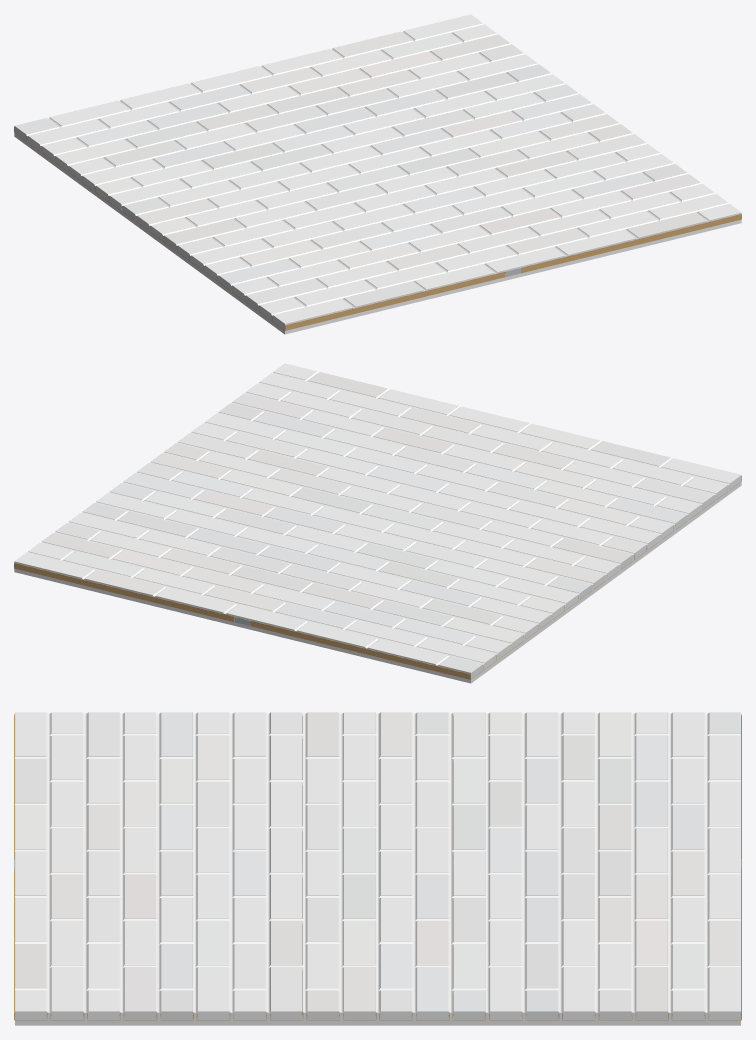
File: board_2.glb
3 renders of one model, top to bottom at view 1: azimuth 30°, elevation 25°; view 2: azimuth 150°, elevation 25°; view 3: azimuth 270°, elevation 25°, orthographic. The views are drawn at different scales.
Visible parts, largest first — view 1: B01, MORTAR, B03, backing, CLIP_R700; view 2: B01, MORTAR, B03, backing, CLIP_R700; view 3: B01, MORTAR, B03, backing, CLIP_R700.
Part boxes in pixels (x1=…): B01: x1=28, y1=14, x2=727, y2=329; MORTAR: x1=26, y1=23, x2=728, y2=321; B03: x1=14, y1=24, x2=741, y2=319; backing: x1=14, y1=133, x2=741, y2=334; CLIP_R700: x1=14, y1=127, x2=741, y2=330; B01: x1=14, y1=372, x2=741, y2=668; MORTAR: x1=27, y1=372, x2=729, y2=670; B03: x1=28, y1=363, x2=727, y2=678; backing: x1=14, y1=482, x2=741, y2=683; CLIP_R700: x1=14, y1=476, x2=741, y2=679; B01: x1=15, y1=712, x2=740, y2=1019; MORTAR: x1=15, y1=713, x2=740, y2=1020; B03: x1=15, y1=712, x2=740, y2=1019; backing: x1=15, y1=1020, x2=740, y2=1025; CLIP_R700: x1=14, y1=714, x2=741, y2=1020.
Bounding box in the file's own units: 1.45 × 0.033 × 1.49.
